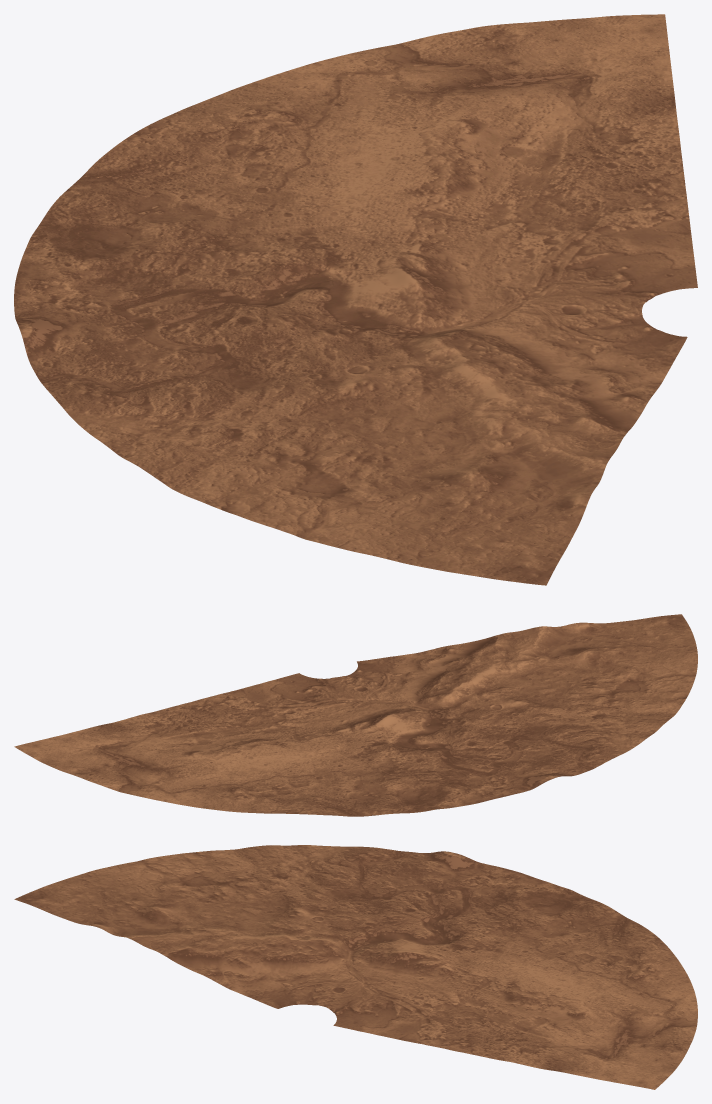
File: far.obj
The picture shows the model from 3 angles, top to bottom: view 1: azimuth 30°, elevation 25°; view 2: azimuth 150°, elevation 25°; view 3: azimuth 270°, elevation 25°; orthographic projection. The views are drawn at different scales.
Visible parts, largest first — view 1: far; view 2: far; view 3: far.
Part boxes in pixels (<box>): far: <box>14,14,697,585</box>; far: <box>14,614,697,816</box>; far: <box>14,845,697,1089</box>.
Size of the model in its own units: 36349 by 880 by 43284.
